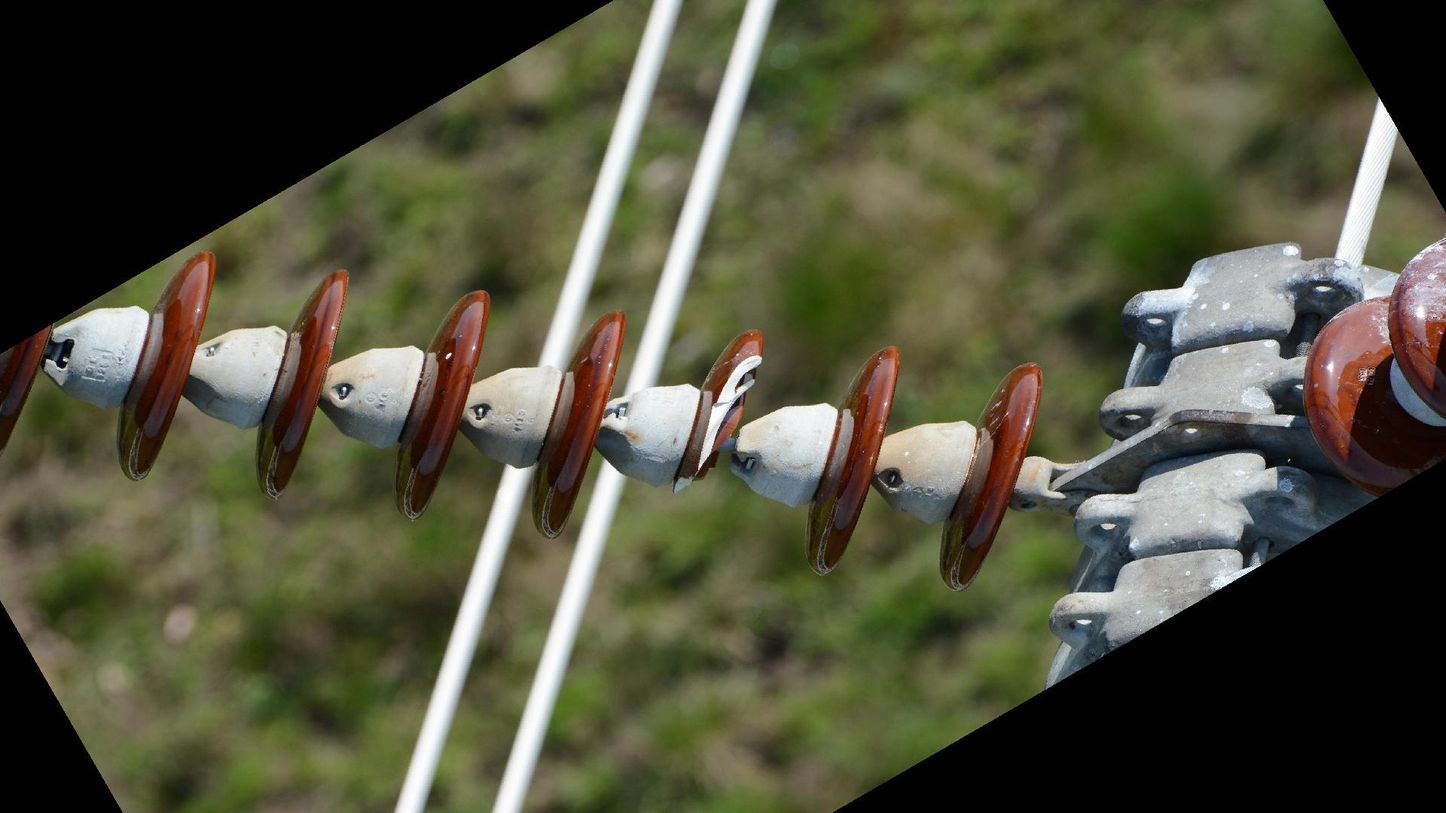insulator: (1, 242, 1049, 601), (1297, 236, 1446, 499)
insulator_breakage: (667, 343, 770, 498)
